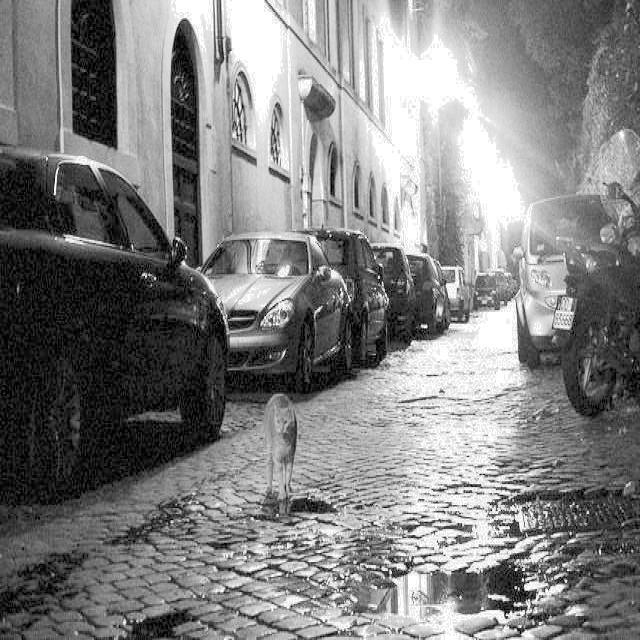Car: (0, 150, 243, 487), (174, 230, 354, 388), (510, 189, 640, 368), (309, 224, 387, 371)
Cat: (264, 390, 299, 504)
Motorcycle: (566, 194, 640, 414)
